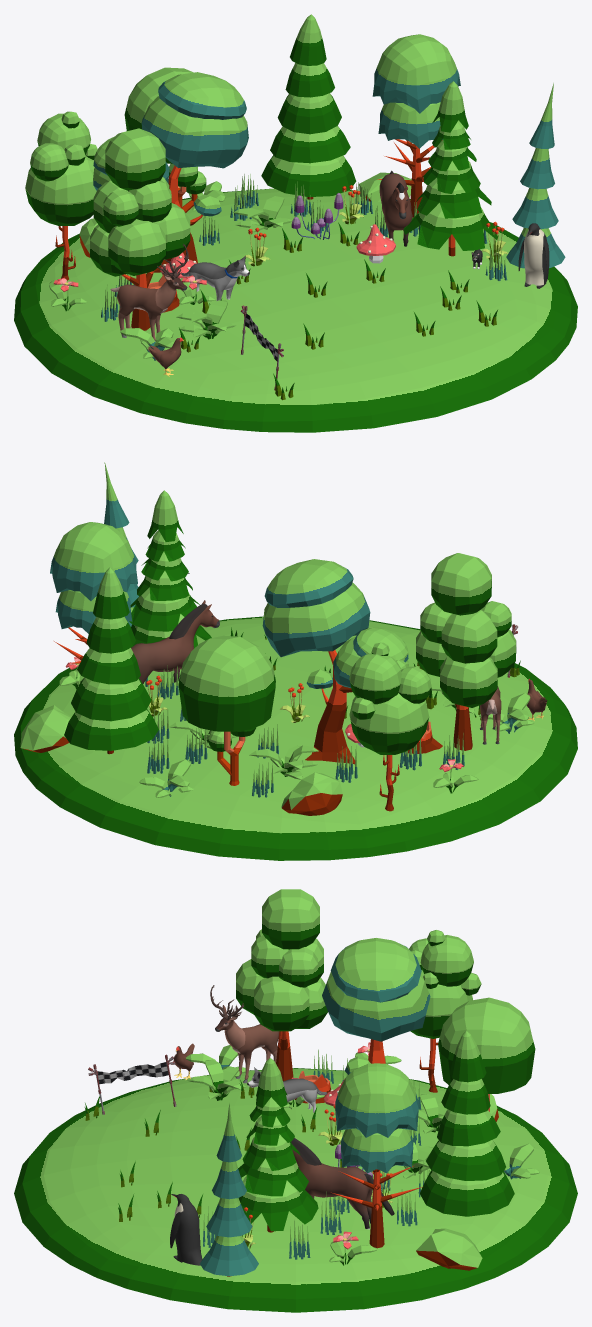
Rendered from diorama.glb.
3 renders of one model, top to bottom at view 1: azimuth 30°, elevation 25°; view 2: azimuth 150°, elevation 25°; view 3: azimuth 270°, elevation 25°, orthographic.
Visible parts, largest first — view 1: Tree.078, Tree.082, Tree.035, Tree.083, Tree.086, Tree.085, Tree.081, Tree.087, Tree.084, Deer_001, Horse_001, Pinguin_001 (+10 smaller); view 2: Tree.078, Tree.083, Tree.082, Tree.035, Tree.084, Tree.081, Tree.086, Tree.085, Horse_001, Tree.102, Tree.101, Tree.109 (+5 smaller); view 3: Tree.078, Tree.082, Tree.035, Tree.083, Tree.086, Tree.085, Tree.084, Tree.081, Tree.087, Horse_001, Deer_001, Tree.101 (+9 smaller).
Part boxes in pixels (<box>): Tree.078: <box>14,188,577,432</box>; Tree.082: <box>90,128,190,330</box>; Tree.035: <box>261,14,356,199</box>; Tree.083: <box>93,72,248,272</box>; Tree.086: <box>372,34,460,217</box>; Tree.085: <box>403,81,498,256</box>; Tree.081: <box>25,111,97,280</box>; Tree.087: <box>506,83,565,268</box>; Tree.084: <box>124,67,206,212</box>; Deer_001: <box>110,243,189,341</box>; Horse_001: <box>379,170,412,246</box>; Pinguin_001: <box>518,223,549,288</box>; Tree.078: <box>14,616,577,860</box>; Tree.083: <box>262,559,408,764</box>; Tree.082: <box>416,553,516,750</box>; Tree.035: <box>64,567,158,754</box>; Tree.084: <box>178,635,275,785</box>; Tree.081: <box>349,642,431,811</box>; Tree.086: <box>50,522,137,663</box>; Tree.085: <box>129,490,211,648</box>; Horse_001: <box>131,600,219,683</box>; Tree.102: <box>281,772,342,815</box>; Tree.101: <box>20,705,71,752</box>; Tree.109: <box>249,745,318,779</box>; Tree.078: <box>14,1068,577,1312</box>; Tree.082: <box>236,889,327,1081</box>; Tree.035: <box>420,1031,514,1216</box>; Tree.083: <box>322,938,430,1074</box>; Tree.086: <box>331,1063,422,1248</box>; Tree.085: <box>238,1058,318,1232</box>; Tree.084: <box>438,997,535,1111</box>; Tree.081: <box>409,930,481,1092</box>; Tree.087: <box>200,1103,258,1276</box>; Horse_001: <box>291,1138,394,1229</box>; Deer_001: <box>210,985,279,1083</box>; Tree.101: <box>416,1228,482,1270</box>.
Size of the model in its own units: 31.77 by 13.73 by 31.77.
8 materials, 8 textured.
